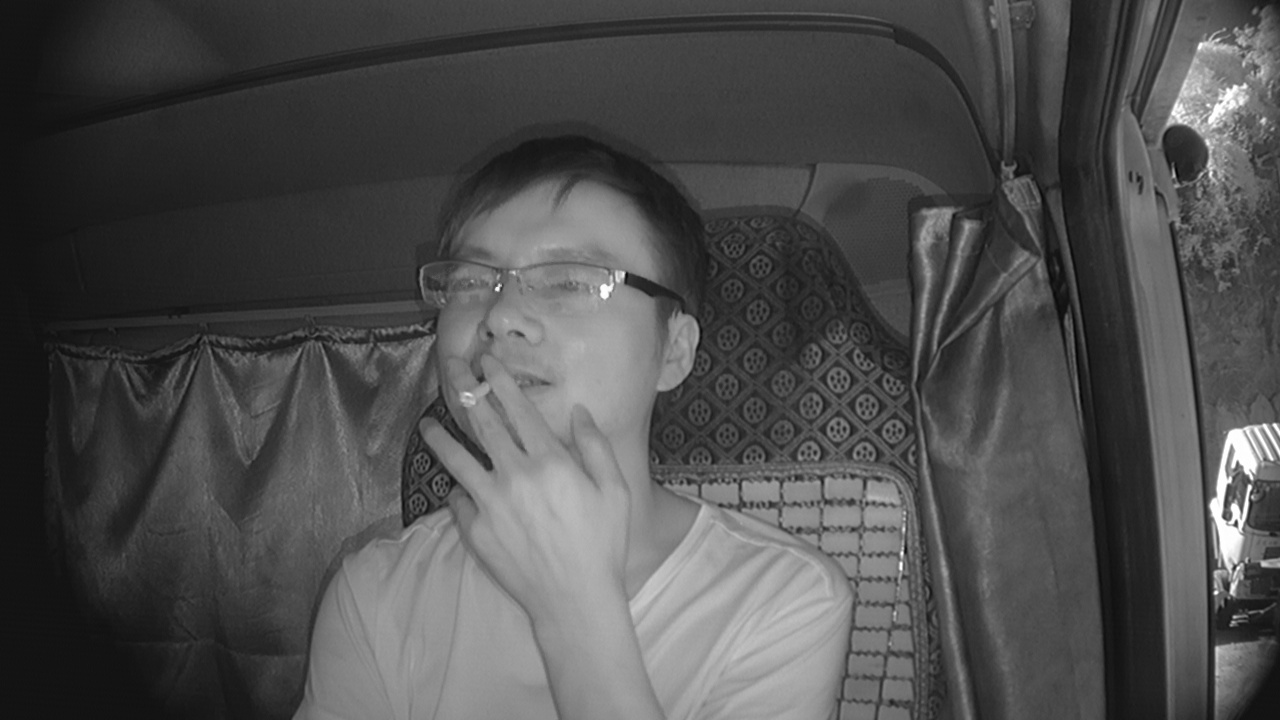hand: (440, 364, 620, 574)
